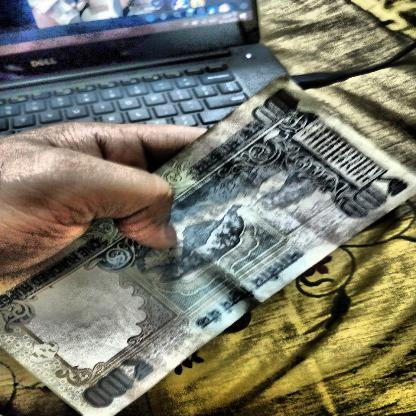Rs100: (71, 347, 163, 415)
